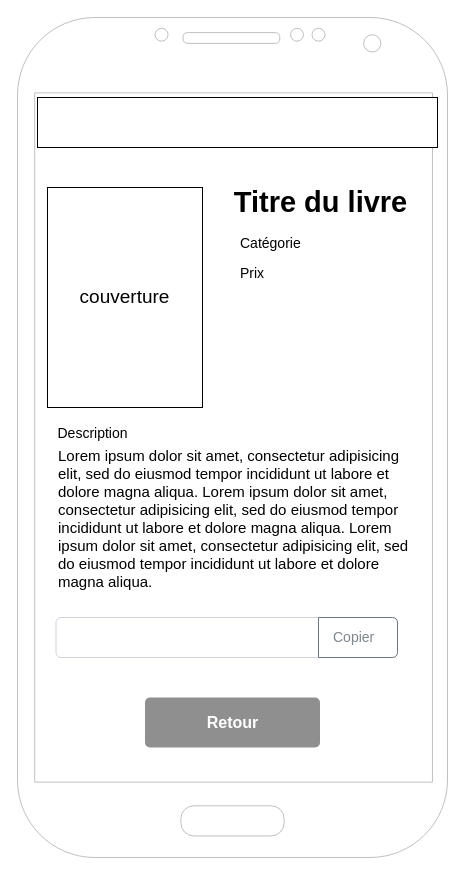
This 465x875 diagram has some shape labels left out. Here are the shapes that lost their labels. From the top down, the centre of each, then its label:
the point at 237,122: Barre de navigation
the point at 226,637: Email de contact
